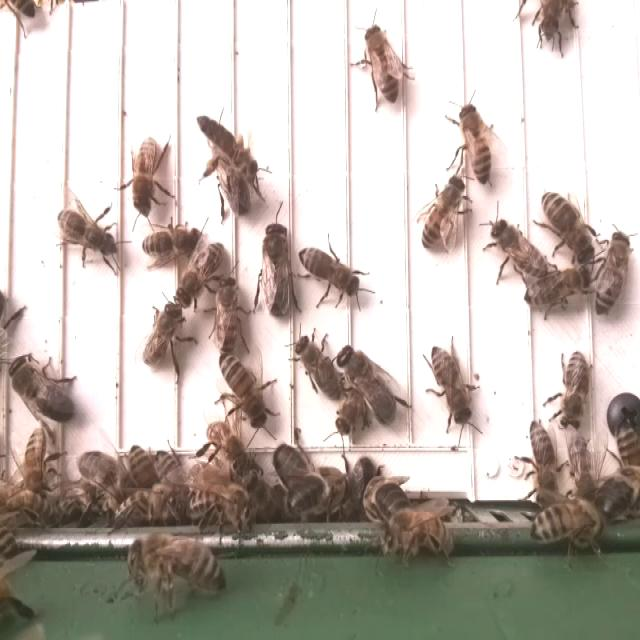Drone: (336, 340, 399, 429), (4, 351, 74, 427), (285, 463, 365, 523), (260, 219, 294, 321)
Worker: (540, 186, 596, 266), (217, 350, 270, 428), (296, 242, 363, 303), (428, 340, 475, 425), (54, 206, 124, 262), (490, 216, 548, 279), (420, 173, 465, 252), (529, 498, 605, 544), (294, 334, 344, 402), (592, 232, 631, 319), (176, 238, 225, 307), (140, 299, 185, 371), (363, 21, 401, 106), (526, 415, 561, 504), (459, 100, 494, 187), (522, 268, 596, 309), (558, 349, 593, 431), (130, 134, 162, 218), (139, 222, 205, 260), (214, 271, 243, 357), (20, 422, 53, 496)
